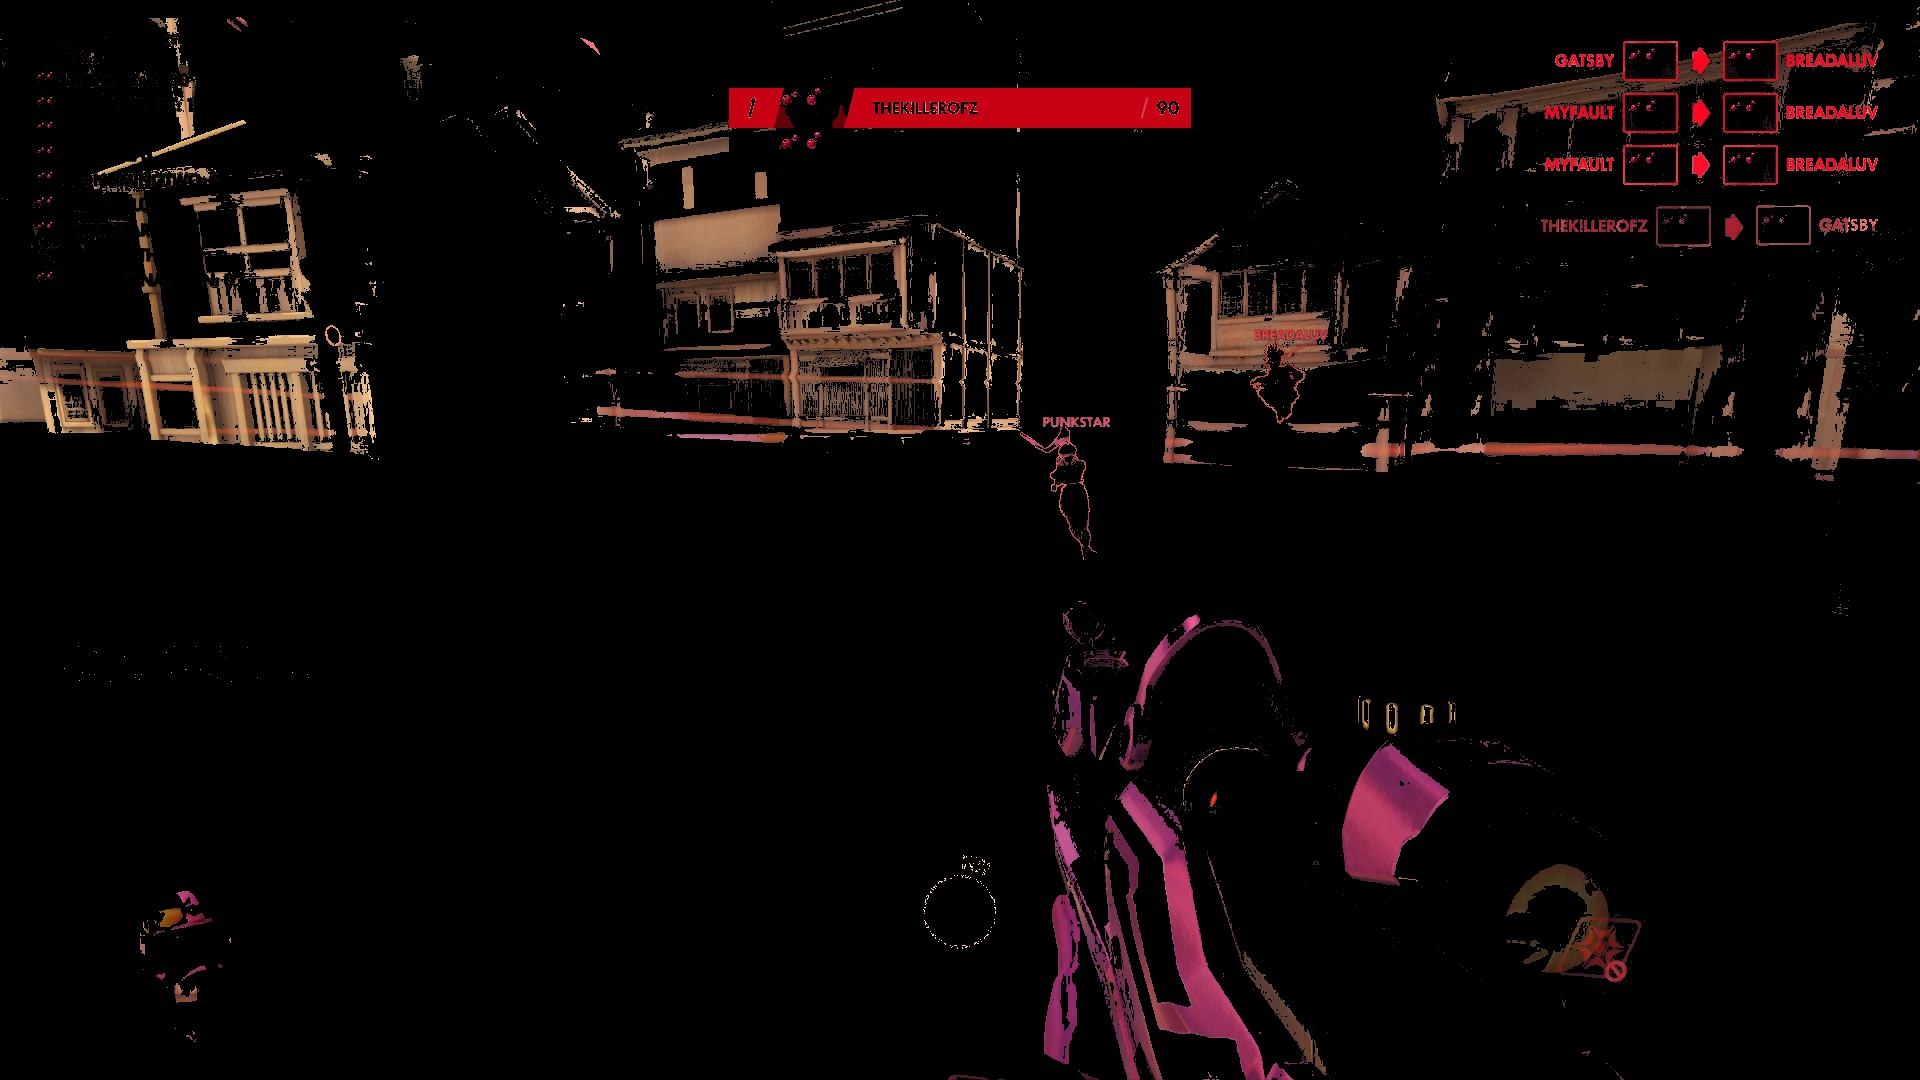widowmaker: (1038, 421, 1116, 568), (1244, 336, 1319, 435)
